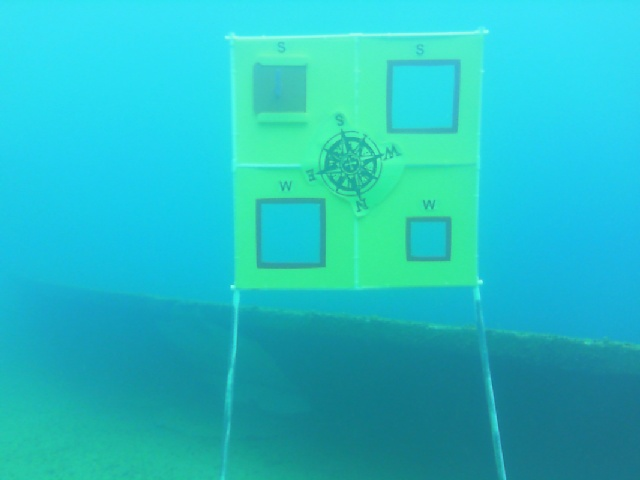torpedo_cover: (247, 61, 317, 120)
torpedo_hole: (378, 62, 462, 137), (258, 196, 330, 269), (402, 205, 463, 266), (254, 63, 314, 120)
torpedo_target: (220, 33, 492, 294)
